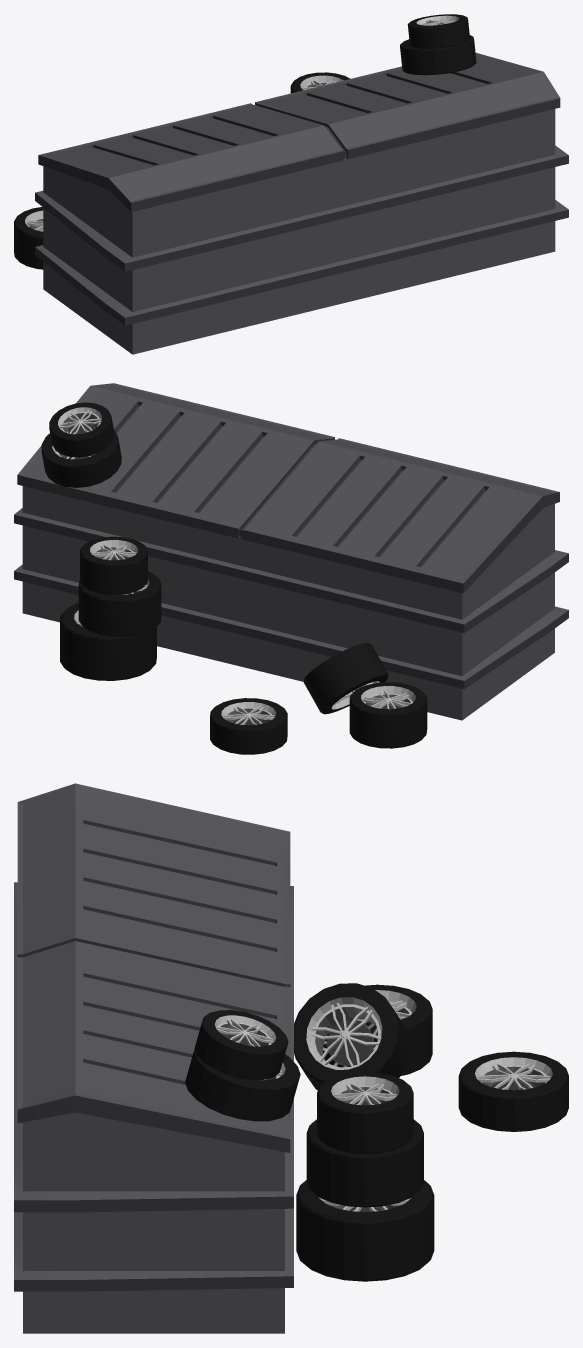
The model's file is dust_bin_2_T2.fbx.
3 renders of one model, top to bottom at view 1: azimuth 30°, elevation 25°; view 2: azimuth 150°, elevation 25°; view 3: azimuth 270°, elevation 25°, orthographic. The views are drawn at different scales.
Parts seen in each view (by area): view 1: pCube112, devida13, devida21, devida20, devida17; view 2: pCube112, devida17, devida20, devida22, devida21, devida13; view 3: pCube112, devida17, devida20, devida22, devida21, devida13.
Boxes of the visible parts, box(x1,y1,x2,y2) form: pCube112: box(35, 53, 568, 354); devida13: box(400, 35, 476, 75); devida21: box(407, 14, 469, 48); devida20: box(14, 207, 43, 269); devida17: box(290, 72, 350, 93); pCube112: box(14, 383, 568, 720); devida17: box(60, 536, 161, 680); devida20: box(303, 642, 427, 748); devida22: box(210, 698, 287, 754); devida21: box(49, 402, 114, 457); devida13: box(41, 426, 121, 487); pCube112: box(14, 783, 293, 1333); devida17: box(296, 1071, 434, 1281); devida20: box(294, 983, 432, 1090); devida22: box(458, 1051, 568, 1131); devida21: box(194, 1010, 288, 1079); devida13: box(185, 1049, 300, 1121).
Bounding box in the file's own units: 1333 × 551 × 983.
